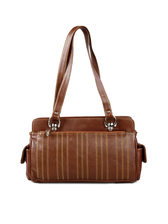bag: (22, 25, 151, 186)
